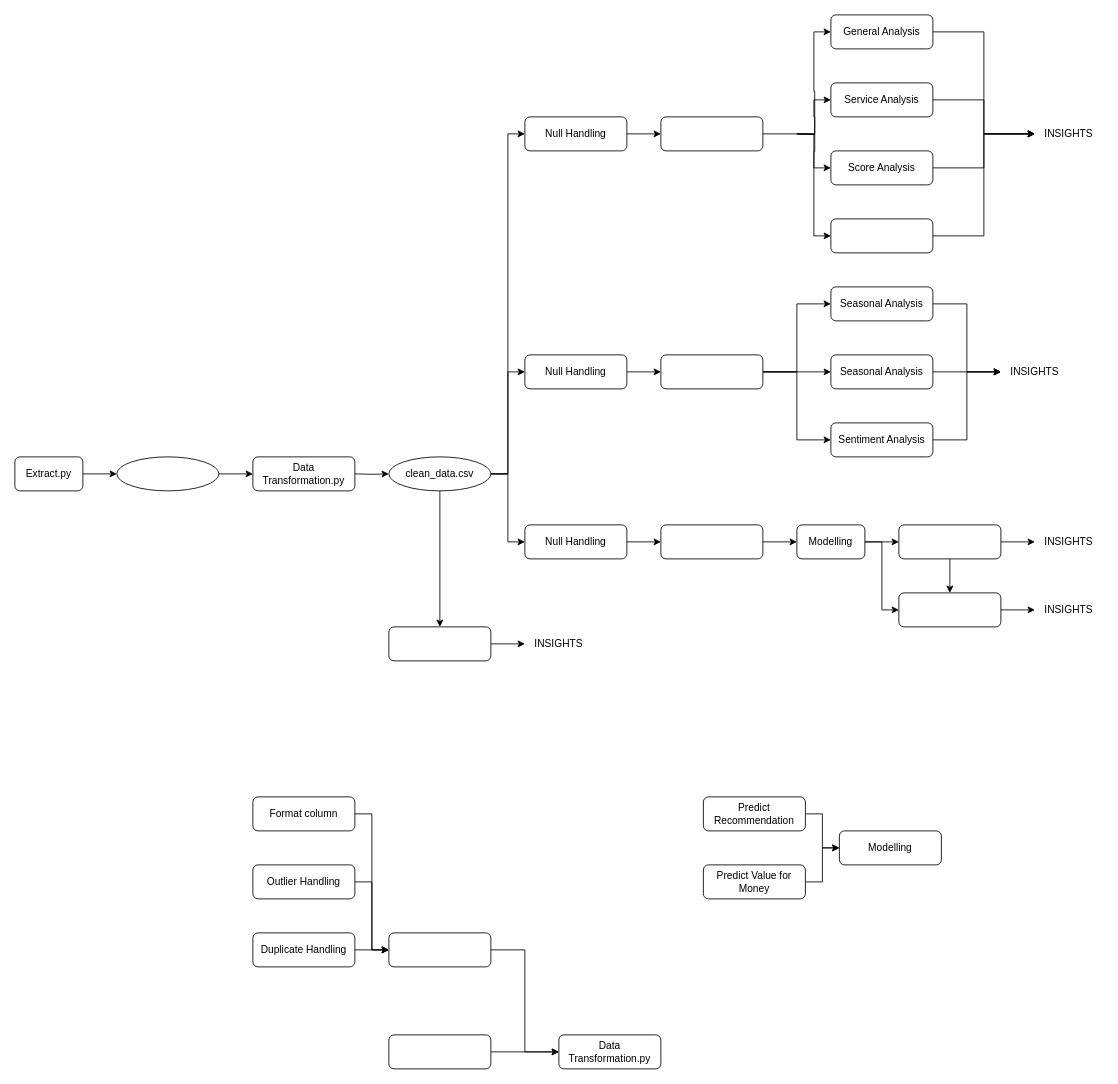
Some shapes in this 1118 by 1084 pixel diagram are drawn without their labels. The box of each missing label's shape, as (x1, y1, x2, y2) in pixels:
Dashboards: (388, 626, 491, 661)
Data Cleaning: (388, 932, 491, 967)
EDA (After): (898, 592, 1001, 627)
EDA (Before): (660, 354, 763, 389)
Feature Engineering: (660, 524, 763, 559)
raw_data.csv: (116, 456, 219, 491)
Statistical Analysis.ipynp: (660, 116, 763, 151)
Time Series Analysis: (830, 218, 933, 253)
Transformation: (388, 1034, 491, 1069)
Weight and Result: (898, 524, 1001, 559)
